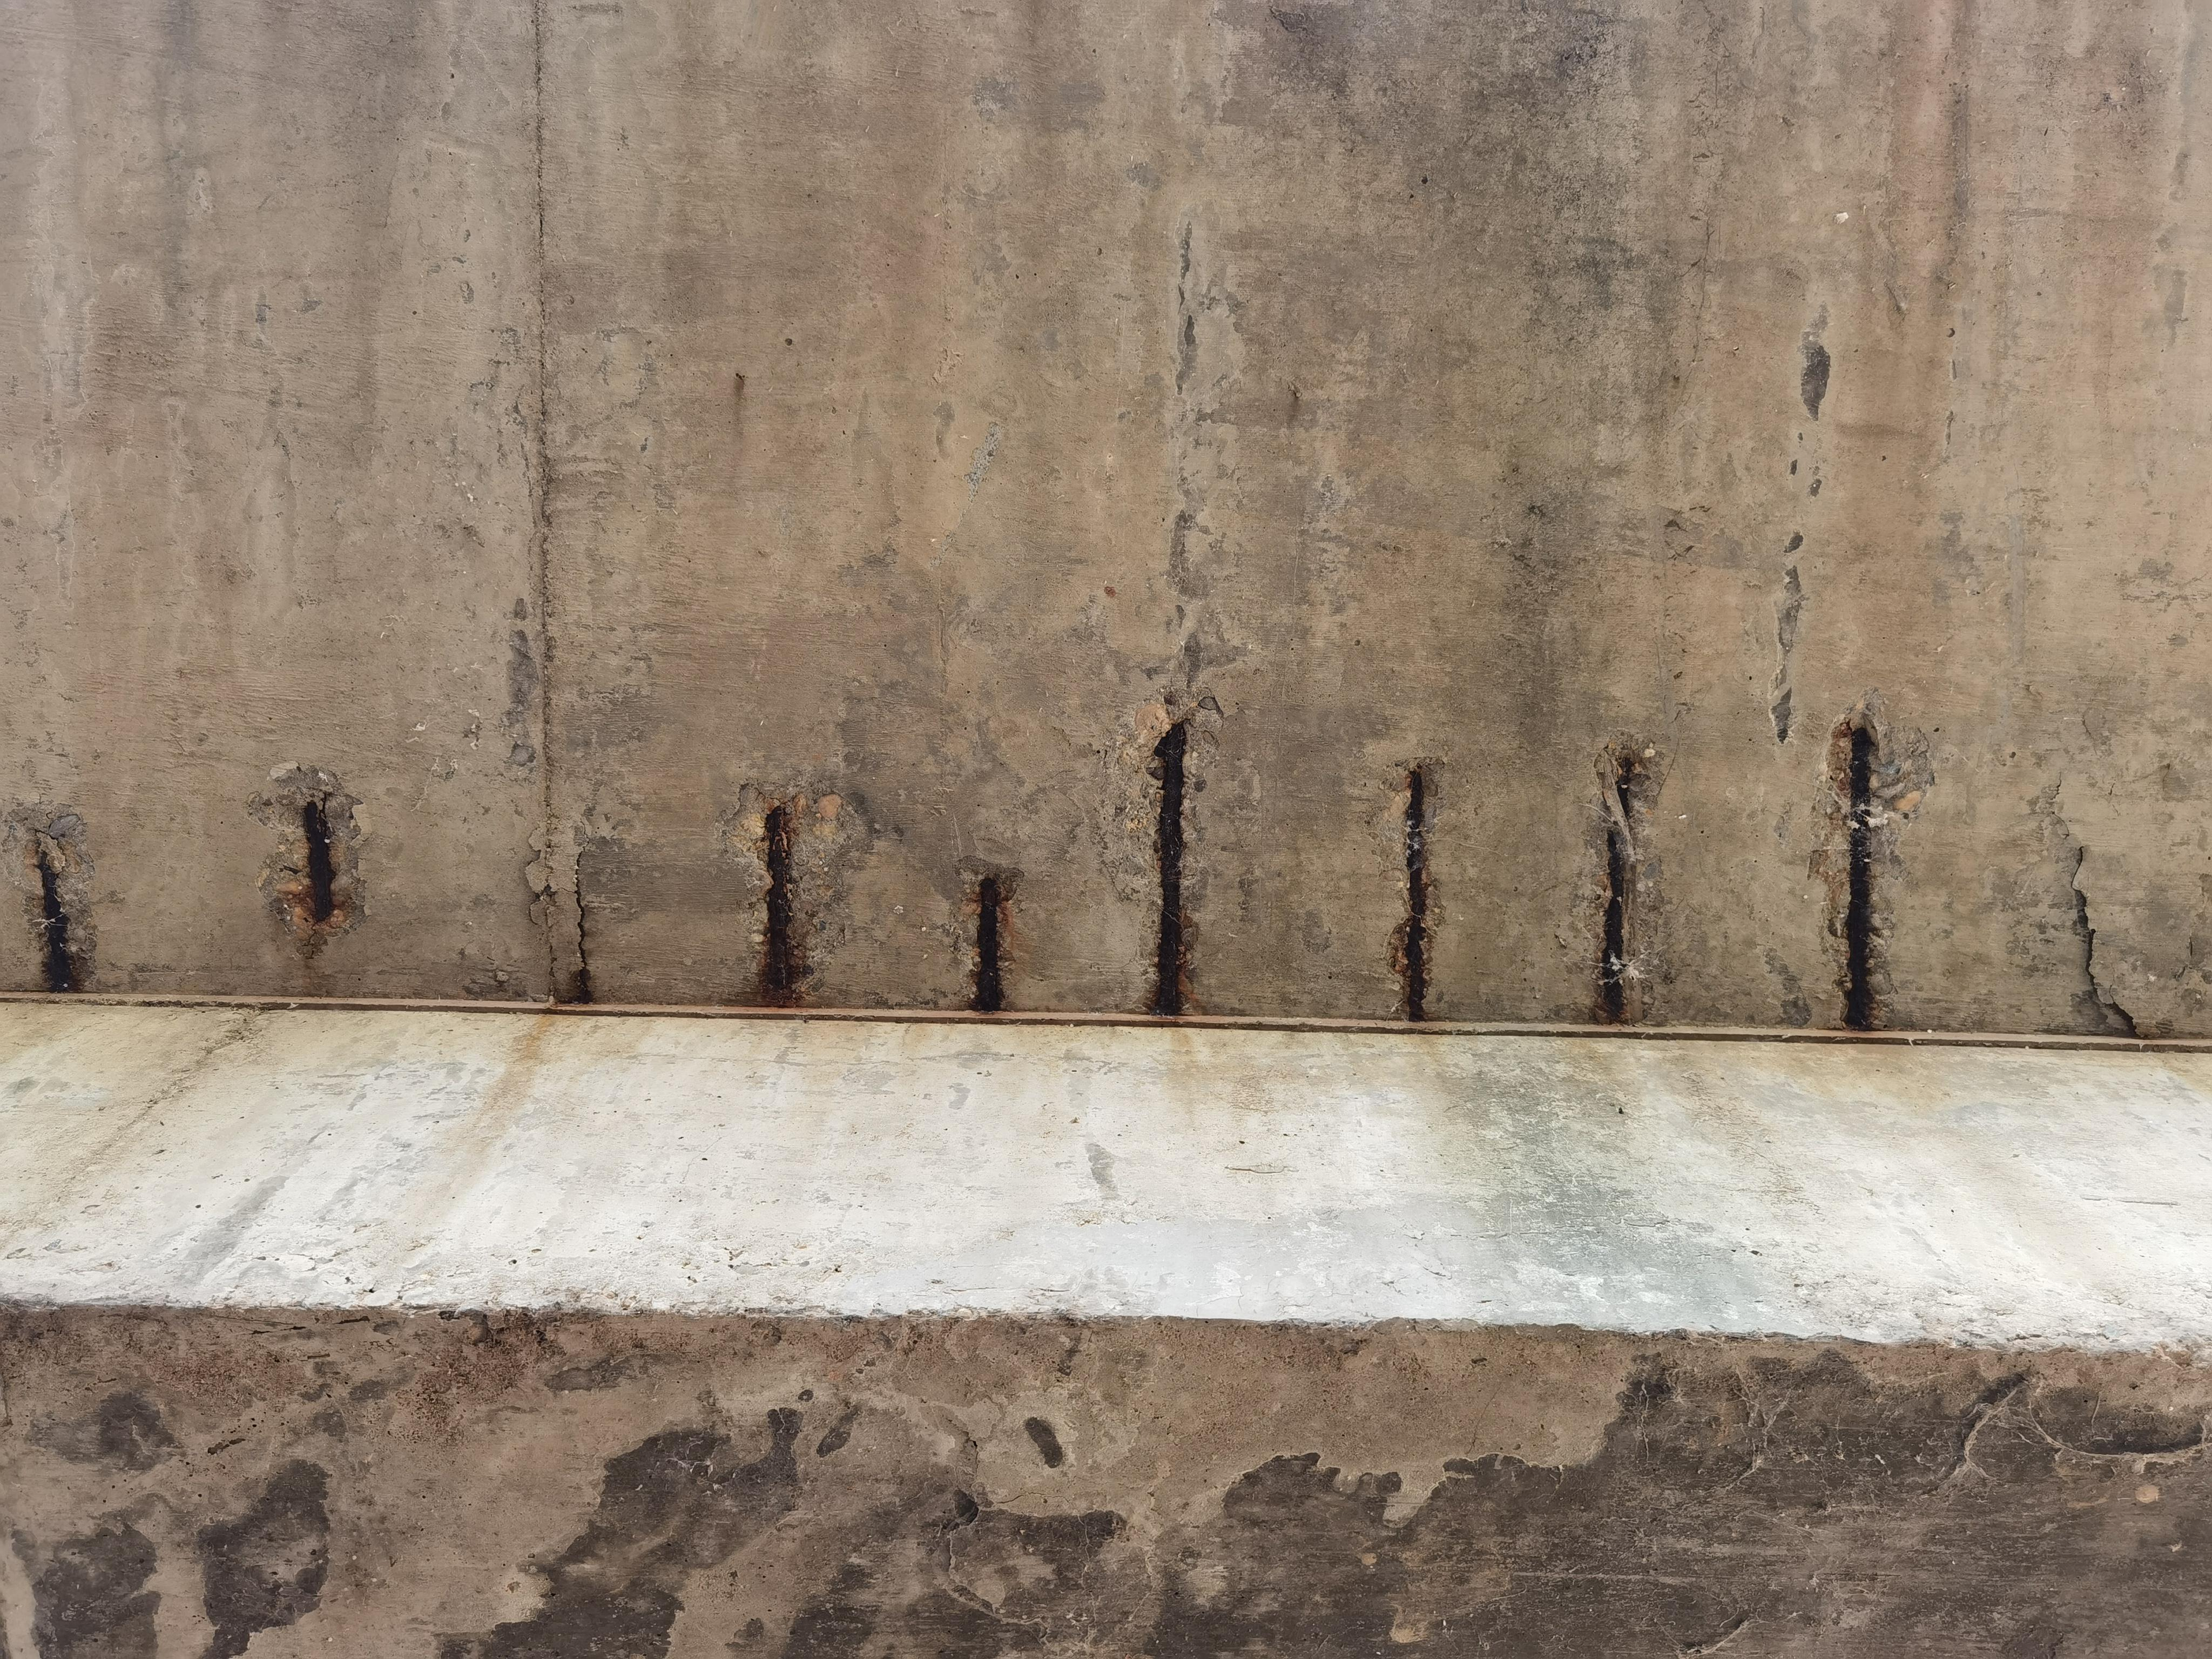rebar: (1844, 727, 1879, 1025), (1599, 760, 1634, 1025), (1157, 723, 1184, 1014), (763, 807, 798, 990), (1406, 772, 1426, 1018), (40, 857, 77, 986), (301, 802, 336, 920), (979, 880, 1003, 1009)
separation: (2050, 713, 2212, 1042), (521, 817, 594, 999)
spall: (1799, 687, 1935, 1033), (1099, 685, 1230, 1014), (714, 777, 873, 1011), (1569, 728, 1677, 1026), (242, 760, 376, 960), (1367, 753, 1456, 1018), (2, 803, 98, 990), (946, 856, 1026, 1016)
